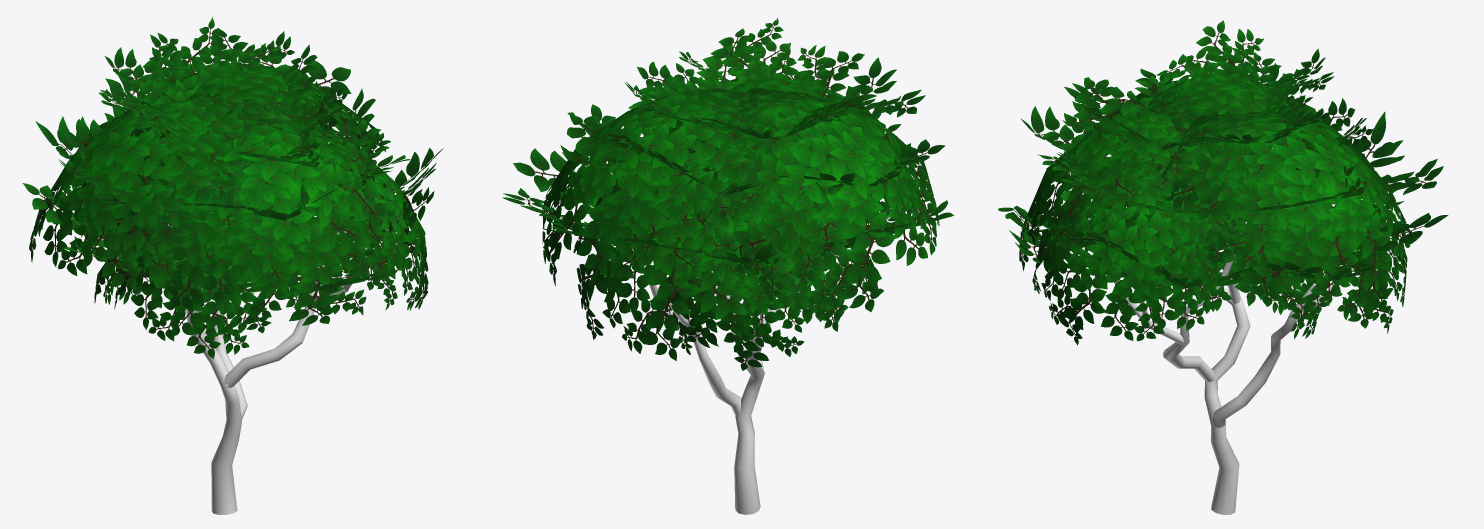
File: street_vegetation_park_tree_uruk.FBX
3 views of the same model, side by side, from view 1: azimuth 30°, elevation 25°; view 2: azimuth 150°, elevation 25°; view 3: azimuth 270°, elevation 25° (orthographic). The views are drawn at different scales.
Visible parts, largest first — view 1: street_vegetation_park_tree_uruk_leafs, street_vegetation_park_tree_uruk_bark; view 2: street_vegetation_park_tree_uruk_leafs, street_vegetation_park_tree_uruk_bark; view 3: street_vegetation_park_tree_uruk_leafs, street_vegetation_park_tree_uruk_bark.
Part boxes in pixels (left/top/right/bottom): street_vegetation_park_tree_uruk_leafs: left=22, top=17, right=443, bottom=358; street_vegetation_park_tree_uruk_bark: left=168, top=224, right=370, bottom=514; street_vegetation_park_tree_uruk_leafs: left=502, top=18, right=954, bottom=370; street_vegetation_park_tree_uruk_bark: left=649, top=206, right=837, bottom=514; street_vegetation_park_tree_uruk_leafs: left=998, top=20, right=1448, bottom=345; street_vegetation_park_tree_uruk_bark: left=1109, top=222, right=1353, bottom=514.
Bounding box in the file's own units: 413 × 440 × 430.
